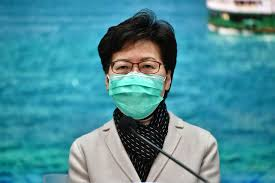mask: (94, 16, 179, 120)
